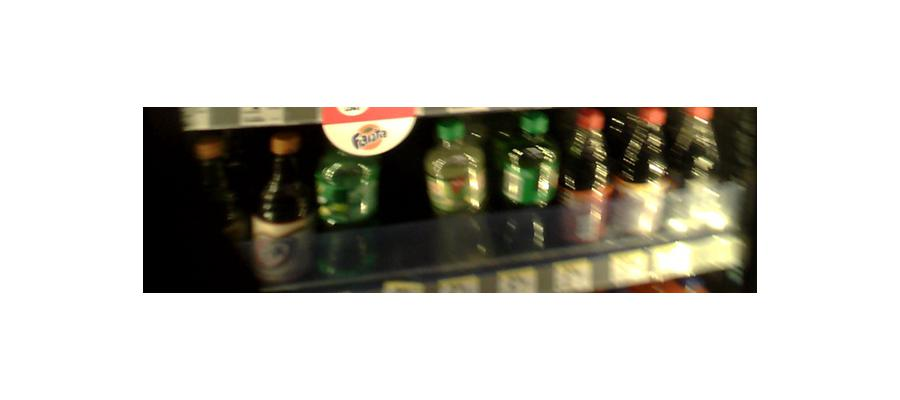bottle: (313, 100, 399, 278), (426, 113, 489, 264), (253, 127, 309, 285), (672, 103, 732, 245), (497, 114, 557, 255), (612, 107, 664, 243), (561, 105, 607, 246)
